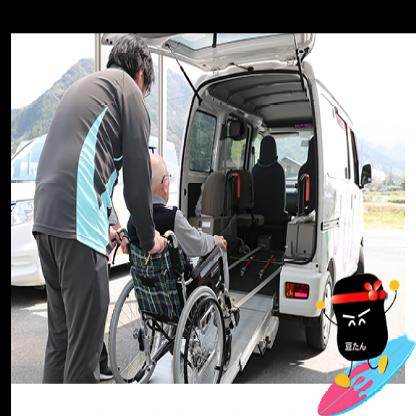wheelchair: (111, 150, 236, 384)
